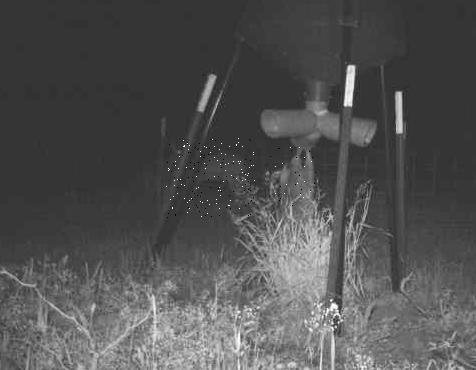Deer: (165, 139, 254, 219)
Raccoon: (266, 147, 317, 207)
